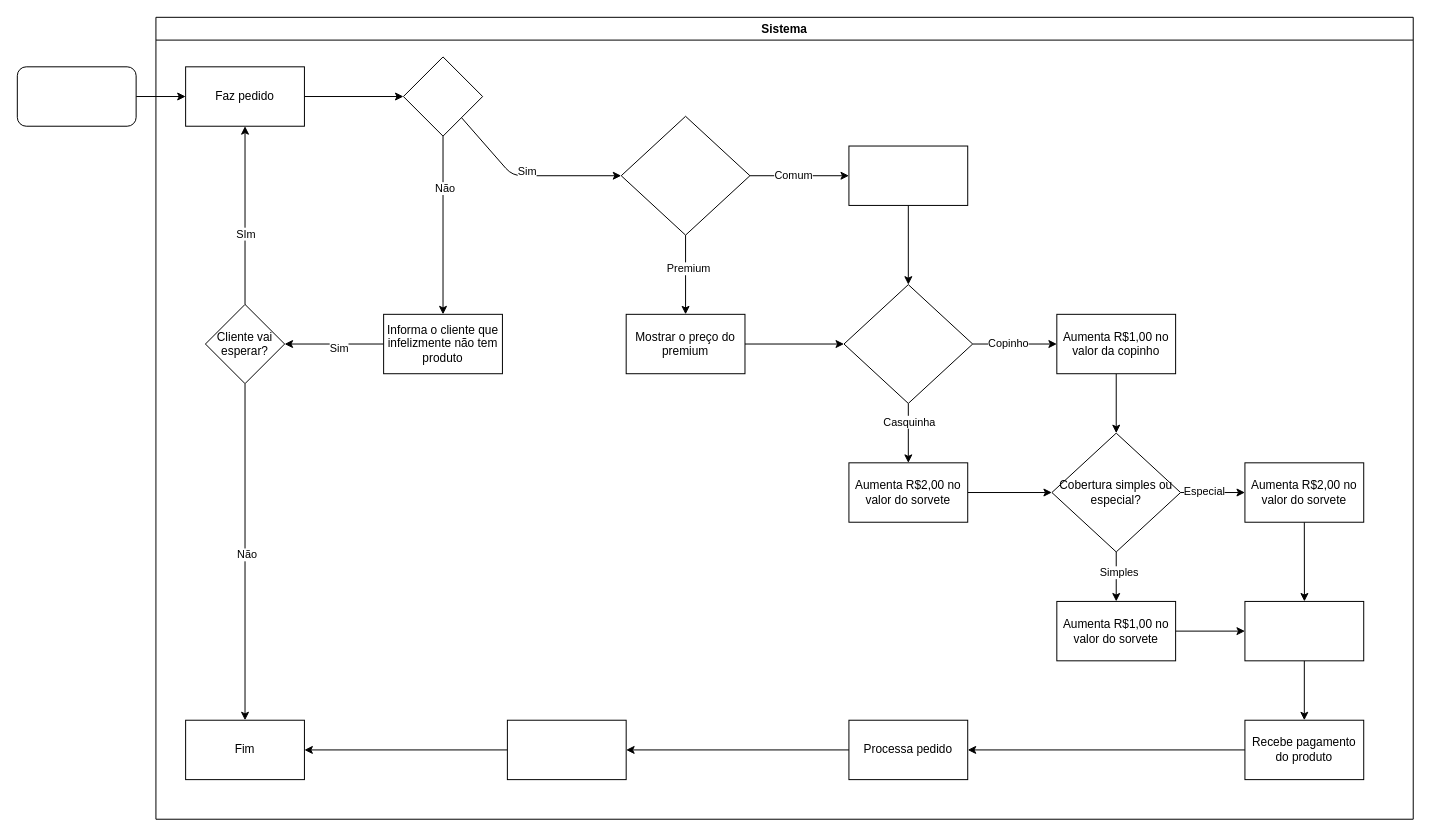
Some shapes in this 1431 by 837 pixel diagram are drawn without their labels. The shapes that lost their labels are listed below. From the top down, each one's centre as x and y in pixels, then its label:
pixel 76 96: Usuário
pixel 442 96: Produto Disponível ?
pixel 685 175: Sorvete comum, sorvete premium?
pixel 908 175: Mostrar o preço do comum
pixel 908 343: Sorvete em copinho ou em casquinha?
pixel 1304 630: Processa o produto
pixel 566 749: Realiza entrega do pedido
